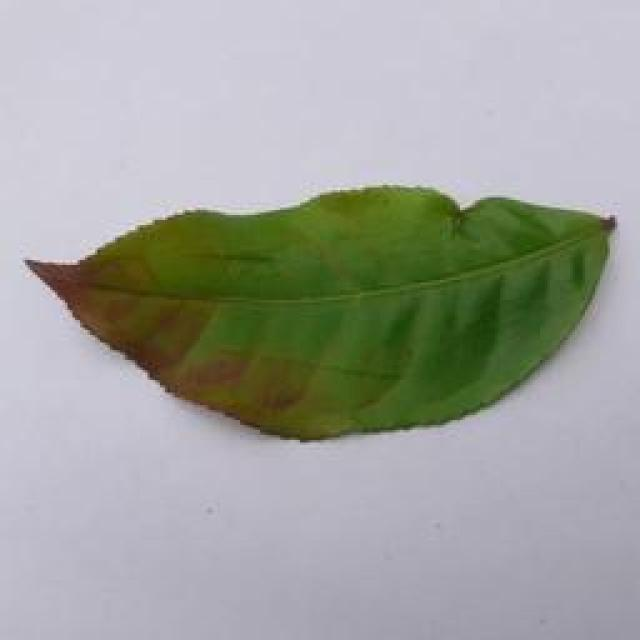Red Leaf Spot: (22, 182, 640, 448)
